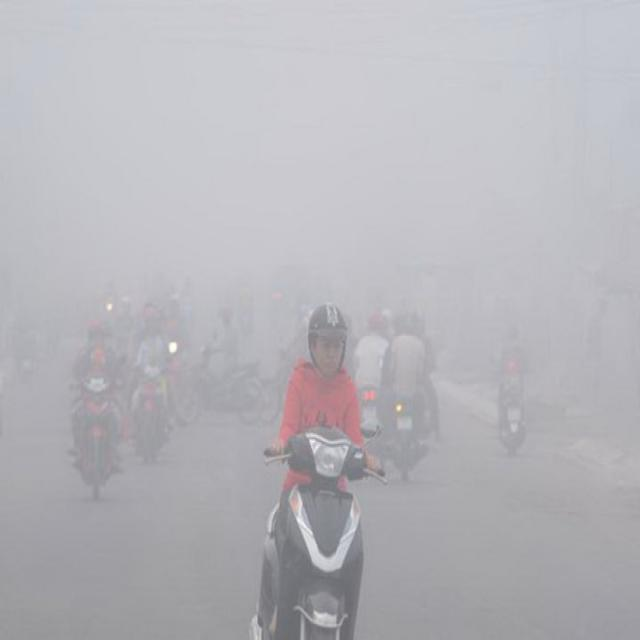Motobike: (259, 408, 386, 640), (172, 337, 270, 442), (59, 369, 130, 501), (126, 354, 172, 466), (377, 386, 428, 474), (489, 365, 535, 462)
